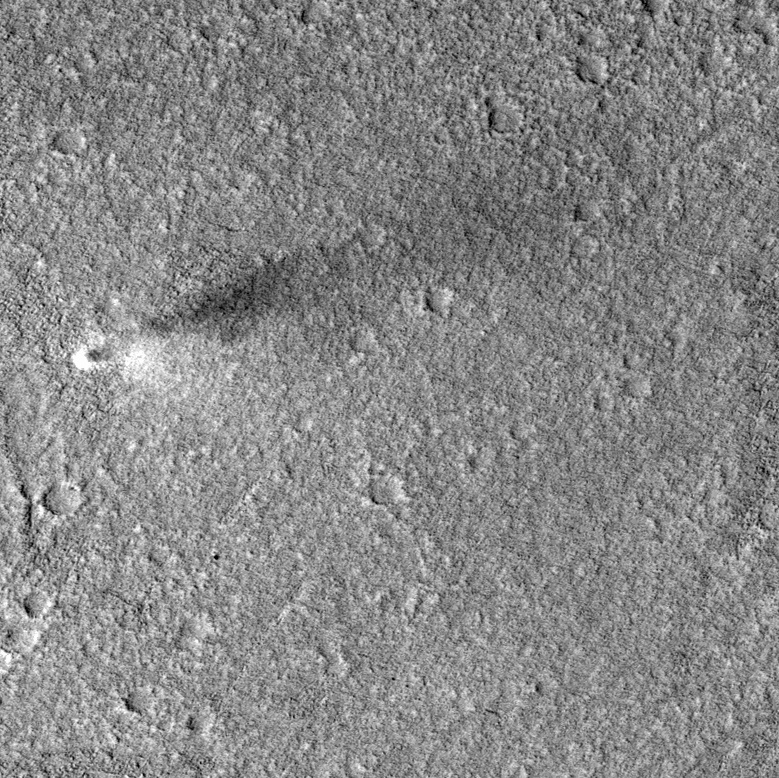dust_devil: (69, 237, 352, 386)
